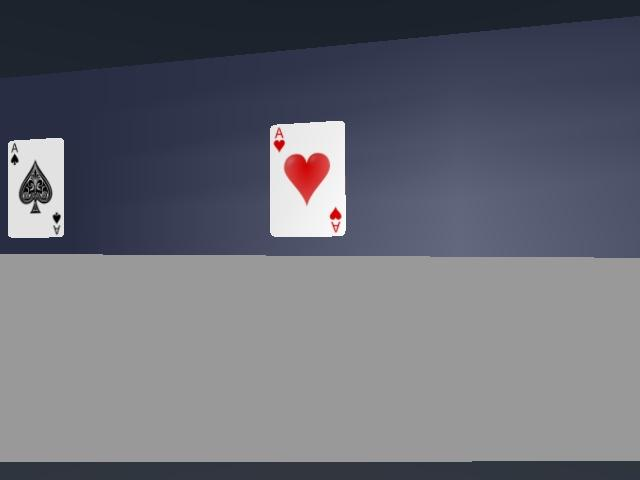heart: (270, 121, 346, 237)
spade: (8, 138, 64, 237)
